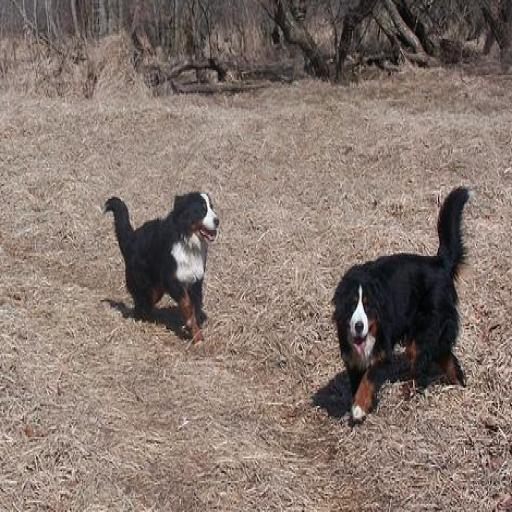dog_face: (336, 286, 386, 356), (171, 184, 222, 243)
